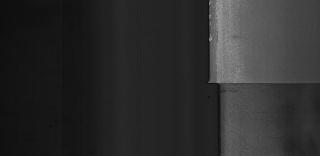welding line: (208, 78, 320, 88)
